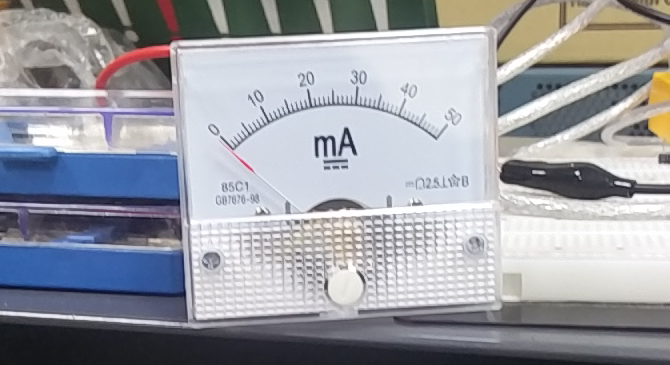MilliAmp_Meter: (175, 34, 491, 222)
